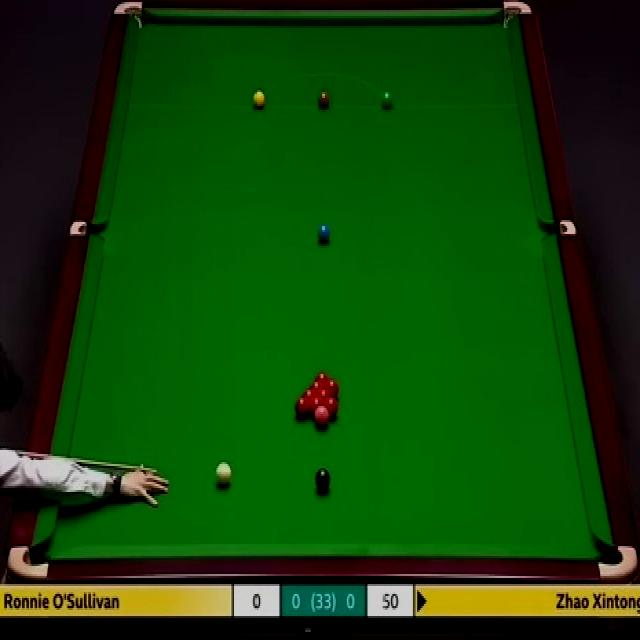black-ball: (315, 466, 332, 494)
blue-ball: (316, 221, 332, 246)
brown-ball: (317, 91, 331, 111)
green-ball: (382, 90, 396, 112)
pink-ball: (313, 405, 331, 431)
red-ball: (324, 395, 340, 419), (294, 396, 310, 419), (308, 396, 324, 417), (325, 379, 339, 398), (302, 388, 318, 399), (308, 380, 325, 390), (313, 371, 330, 381), (317, 388, 332, 399)
white-ball: (215, 459, 232, 488)
yellow-ball: (252, 90, 266, 110)
